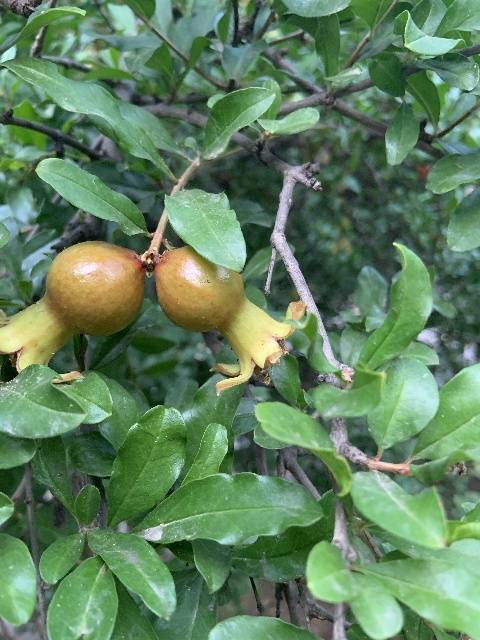early-fruit: (155, 247, 304, 395), (0, 240, 144, 374)
